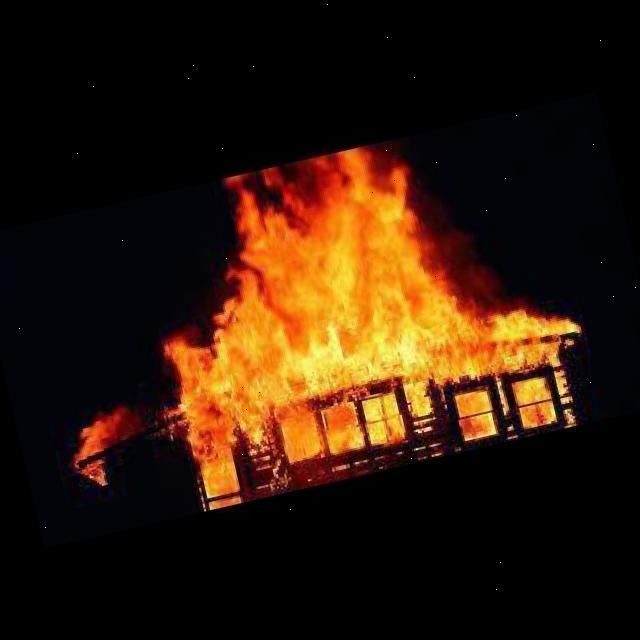fire: (21, 107, 603, 535)
